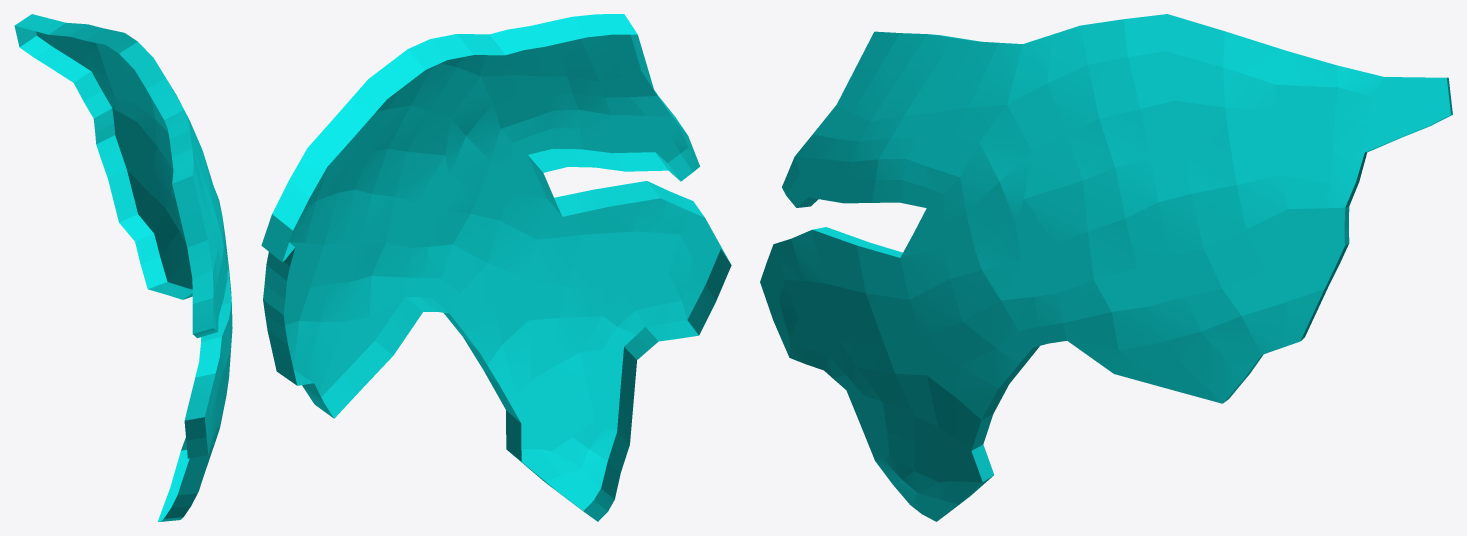
Rendered from Planet_C_Europa_Asia.fbx.
The picture shows the model from 3 angles, left to right: view 1: azimuth 30°, elevation 25°; view 2: azimuth 150°, elevation 25°; view 3: azimuth 270°, elevation 25°; orthographic projection. The views are drawn at different scales.
Visible parts, largest first — view 1: Continent3; view 2: Continent3; view 3: Continent3.
Part boxes in pixels (bbox=[...]): Continent3: bbox=[14, 14, 232, 521]; Continent3: bbox=[261, 14, 731, 521]; Continent3: bbox=[760, 14, 1452, 521].
Size of the model in its own units: 1085 by 2712 by 3152.
